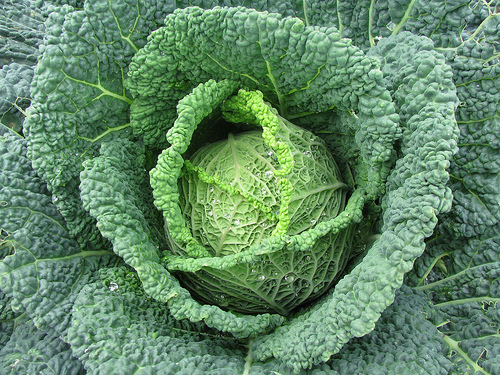cabbage: (165, 127, 353, 309)
